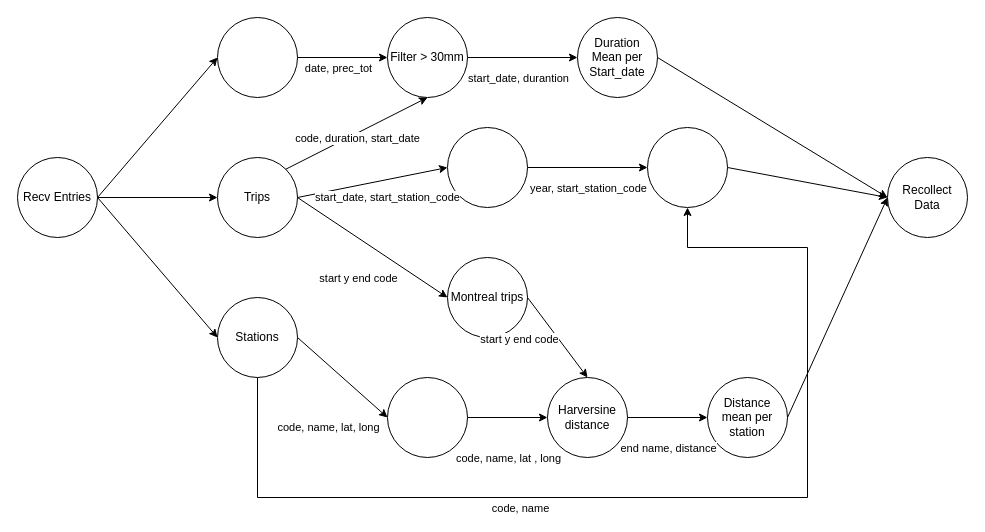
The diagram is 985 pixels wide and 532 high, and some of its shapes have lost their labels. Here are the shapes that lost their labels. From the top down, the centre of each, then its label:
point 257,57: Weather
point 487,167: Filter Trips Start == 2016/17
point 687,167: Trips Count per station
point 427,417: Montreal stations
